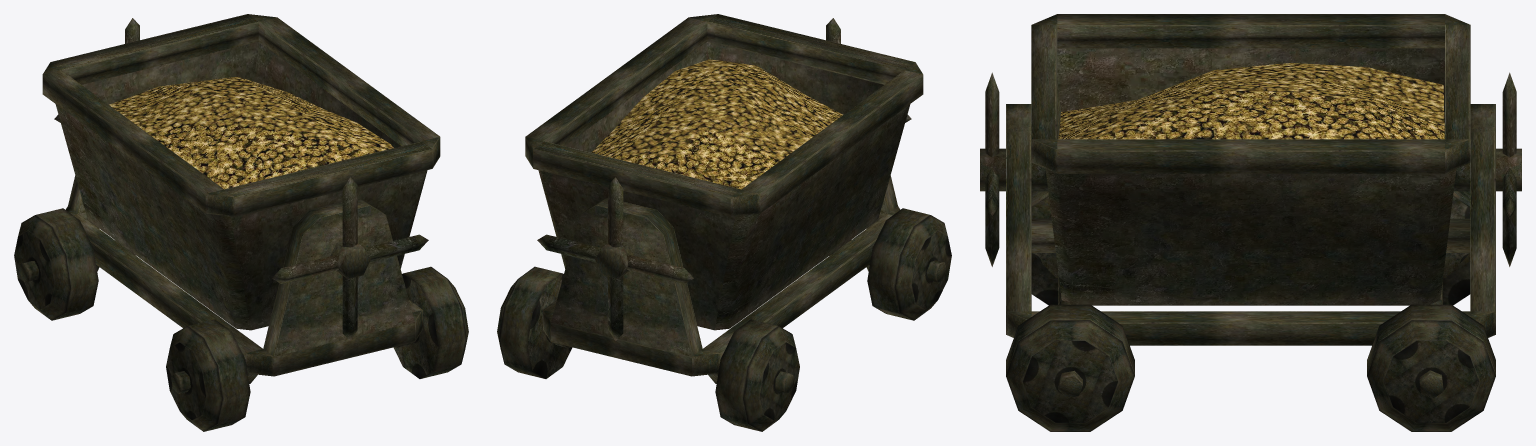
Rendered from KM_VOB_DUMPTRUCK_01.glb.
3 views of the same model, side by side, from view 1: azimuth 30°, elevation 25°; view 2: azimuth 150°, elevation 25°; view 3: azimuth 270°, elevation 25° (orthographic). The views are drawn at different scales.
Visible parts, largest first — view 1: Mesh; view 2: Mesh; view 3: Mesh.
Part boxes in pixels (<box>): Mesh: <box>14,14,468,431</box>; Mesh: <box>497,14,951,431</box>; Mesh: <box>980,14,1521,431</box>.
Size of the model in its own units: 1.5 by 1.24 by 2.1.
Materials: 4 (4 with a texture image).
